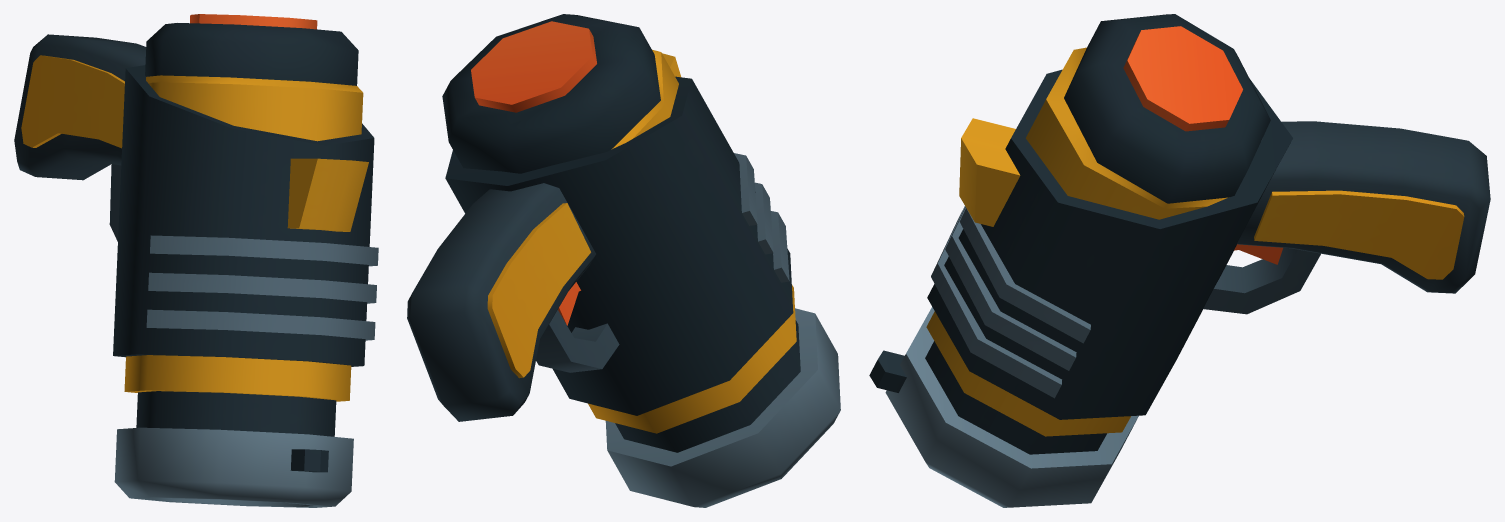
File: Level4-5Gun.fbx
3 renders of one model, left to right at view 1: azimuth 30°, elevation 25°; view 2: azimuth 150°, elevation 25°; view 3: azimuth 270°, elevation 25°, orthographic. The views are drawn at different scales.
Parts seen in each view (by area): view 1: Gun_05_Yellow; view 2: Gun_05_Yellow; view 3: Gun_05_Yellow.
Boxes of the visible parts, bbox=[...] form: Gun_05_Yellow: bbox=[14, 14, 378, 507]; Gun_05_Yellow: bbox=[407, 14, 840, 507]; Gun_05_Yellow: bbox=[869, 14, 1490, 507].
Bounding box in the file's own units: 35.01 × 52.92 × 60.88.
1 material, 1 textured.
